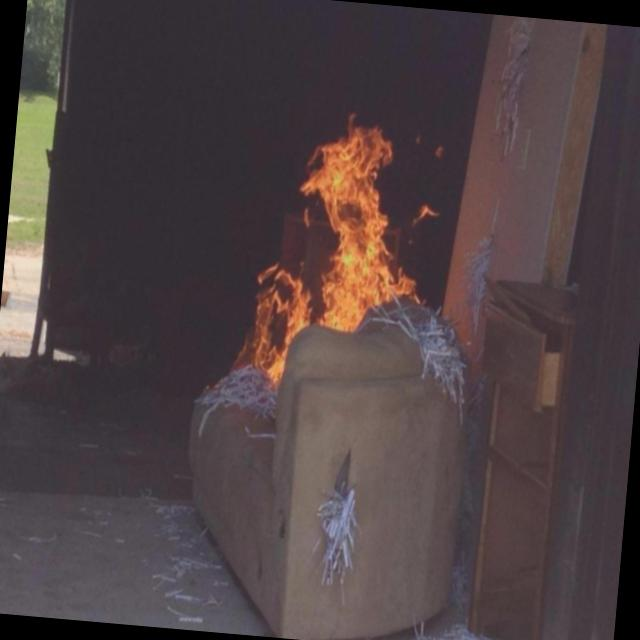fire: (248, 110, 430, 373)
